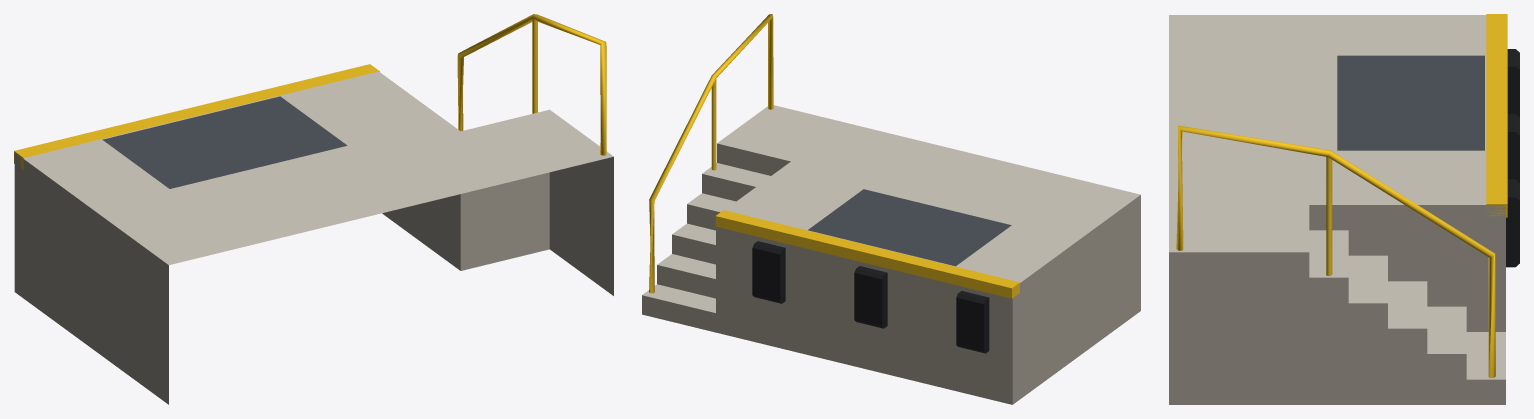
File: ind_dock.glb
3 views of the same model, side by side, from view 1: azimuth 30°, elevation 25°; view 2: azimuth 150°, elevation 25°; view 3: azimuth 270°, elevation 25° (orthographic). The views are drawn at different scales.
Parts seen in each view (by area): view 1: ind_dock__mesh; view 2: ind_dock__mesh; view 3: ind_dock__mesh.
Part boxes in pixels (x1,y1,x2,y2): ind_dock__mesh: (14, 14, 613, 404); ind_dock__mesh: (642, 14, 1140, 404); ind_dock__mesh: (1169, 14, 1519, 404).
Bounding box in the file's own units: 4 × 2.17 × 2.5.
Materials: 1 (1 with a texture image).
